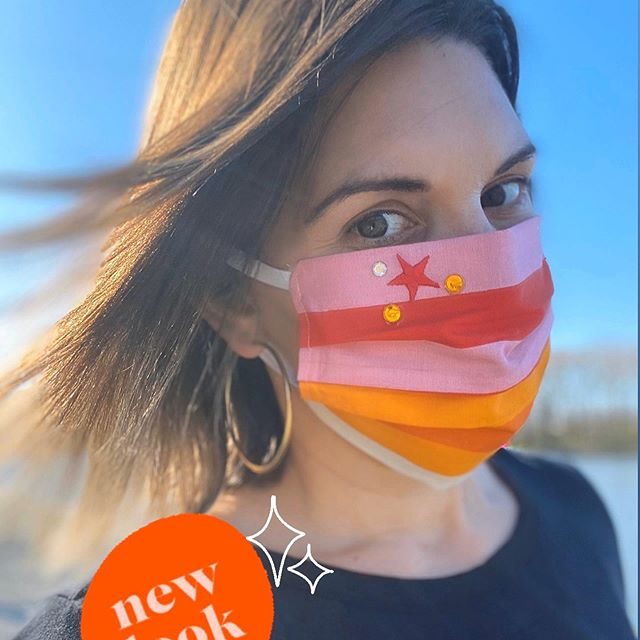homemade: (230, 240, 595, 479)
